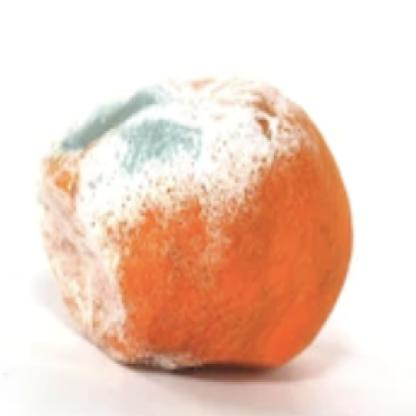rotten: (37, 74, 356, 370)
